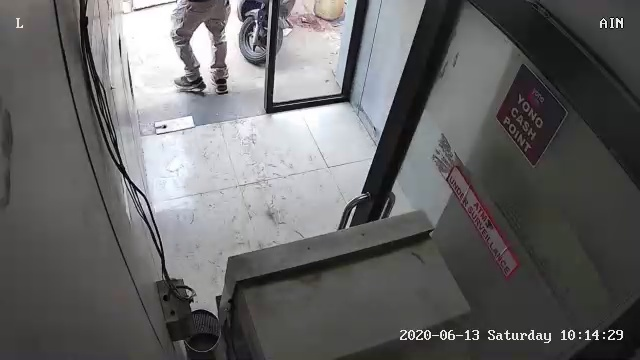open: (119, 4, 397, 140)
